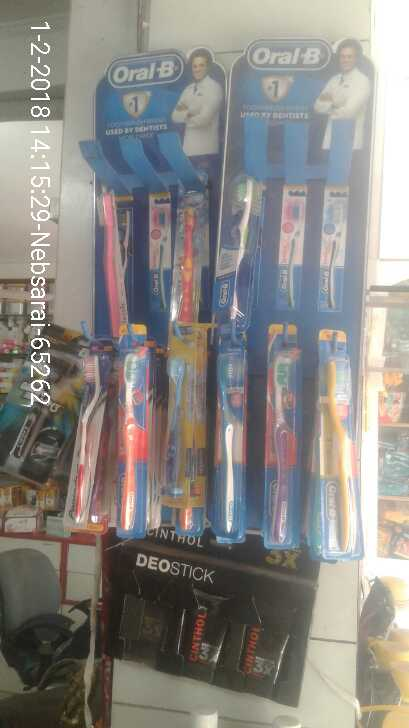oralb: (313, 325, 363, 553), (261, 320, 301, 548), (117, 324, 150, 541), (167, 320, 202, 513), (214, 349, 249, 542), (65, 353, 101, 531), (224, 170, 255, 328), (173, 185, 208, 320), (320, 187, 345, 312), (280, 184, 304, 310)
